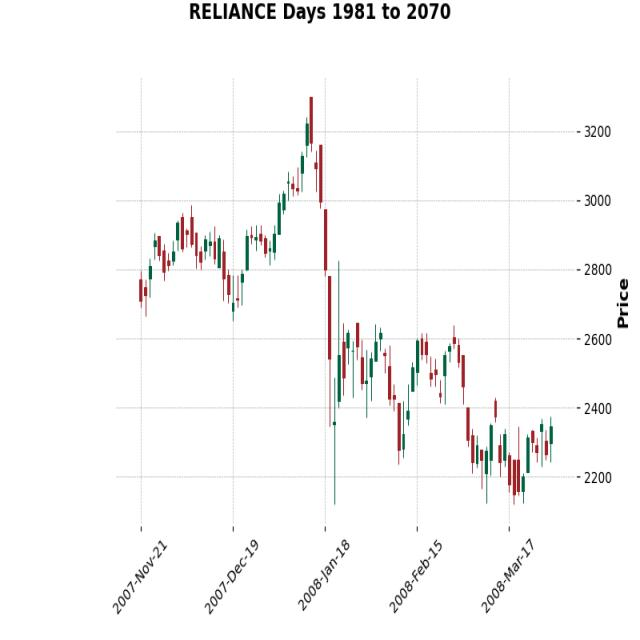Double Top: (266, 76, 365, 242)
